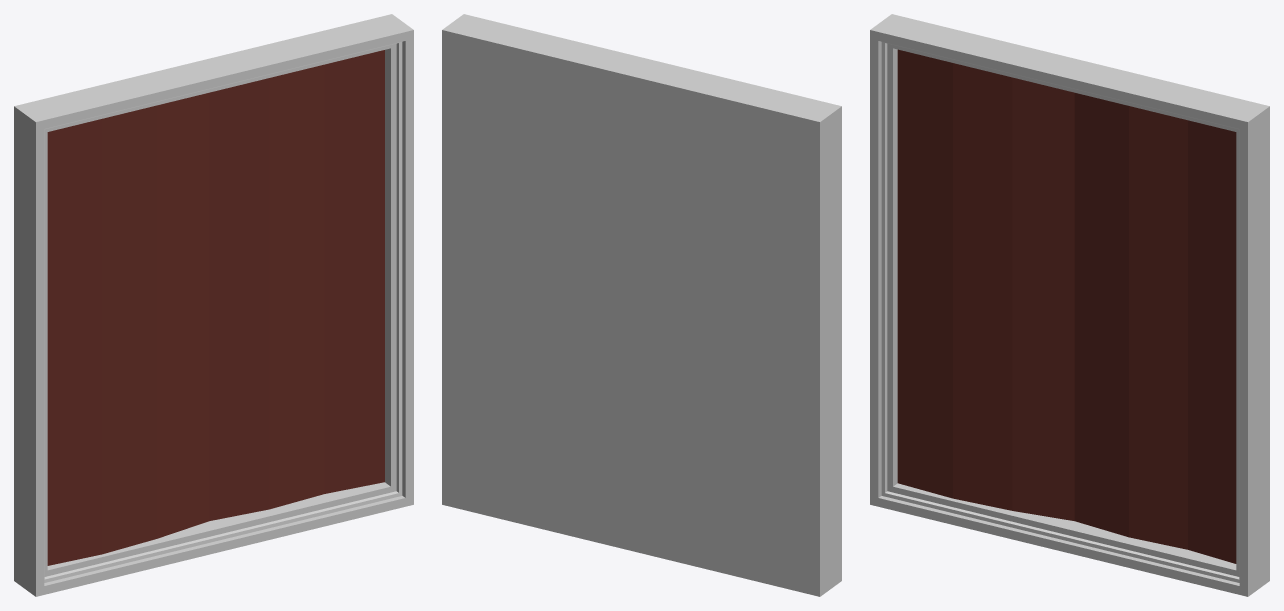
The model's file is Living Wall 1.fbx.
The picture shows the model from 3 angles, left to right: view 1: azimuth 30°, elevation 25°; view 2: azimuth 150°, elevation 25°; view 3: azimuth 330°, elevation 25°; orthographic projection.
Parts seen in each view (by area): view 1: Cube.004; view 2: Cube.004; view 3: Cube.004.
Part boxes in pixels (x1=…): Cube.004: x1=14, y1=14, x2=413, y2=596; Cube.004: x1=442, y1=14, x2=841, y2=596; Cube.004: x1=870, y1=14, x2=1269, y2=596.
Bounding box in the file's own units: 5 × 6 × 0.5.
